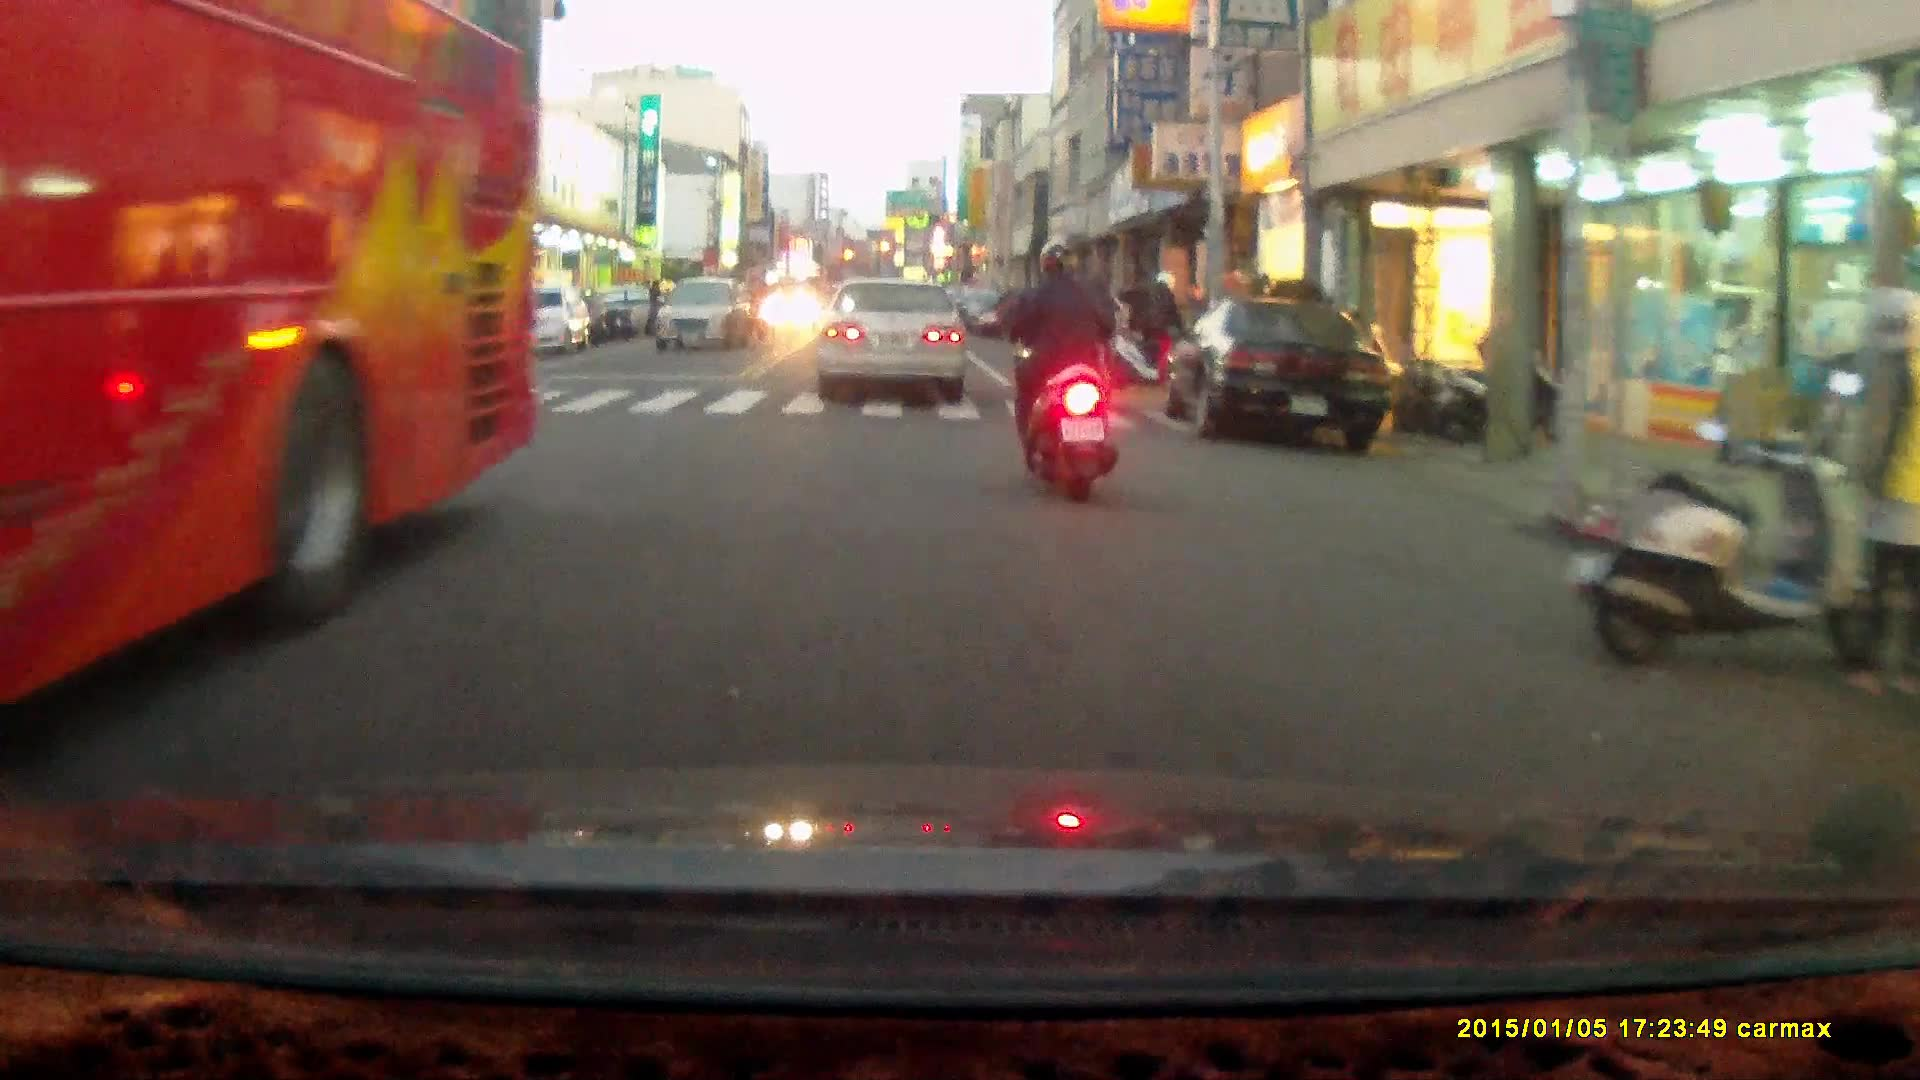pedestrian: (1828, 292, 1920, 696), (1147, 269, 1186, 396), (646, 277, 668, 344)
rider: (991, 241, 1117, 507)
vehicle: (1, 16, 544, 724), (1160, 302, 1404, 451), (817, 276, 970, 406), (476, 284, 586, 361), (653, 280, 752, 354)
